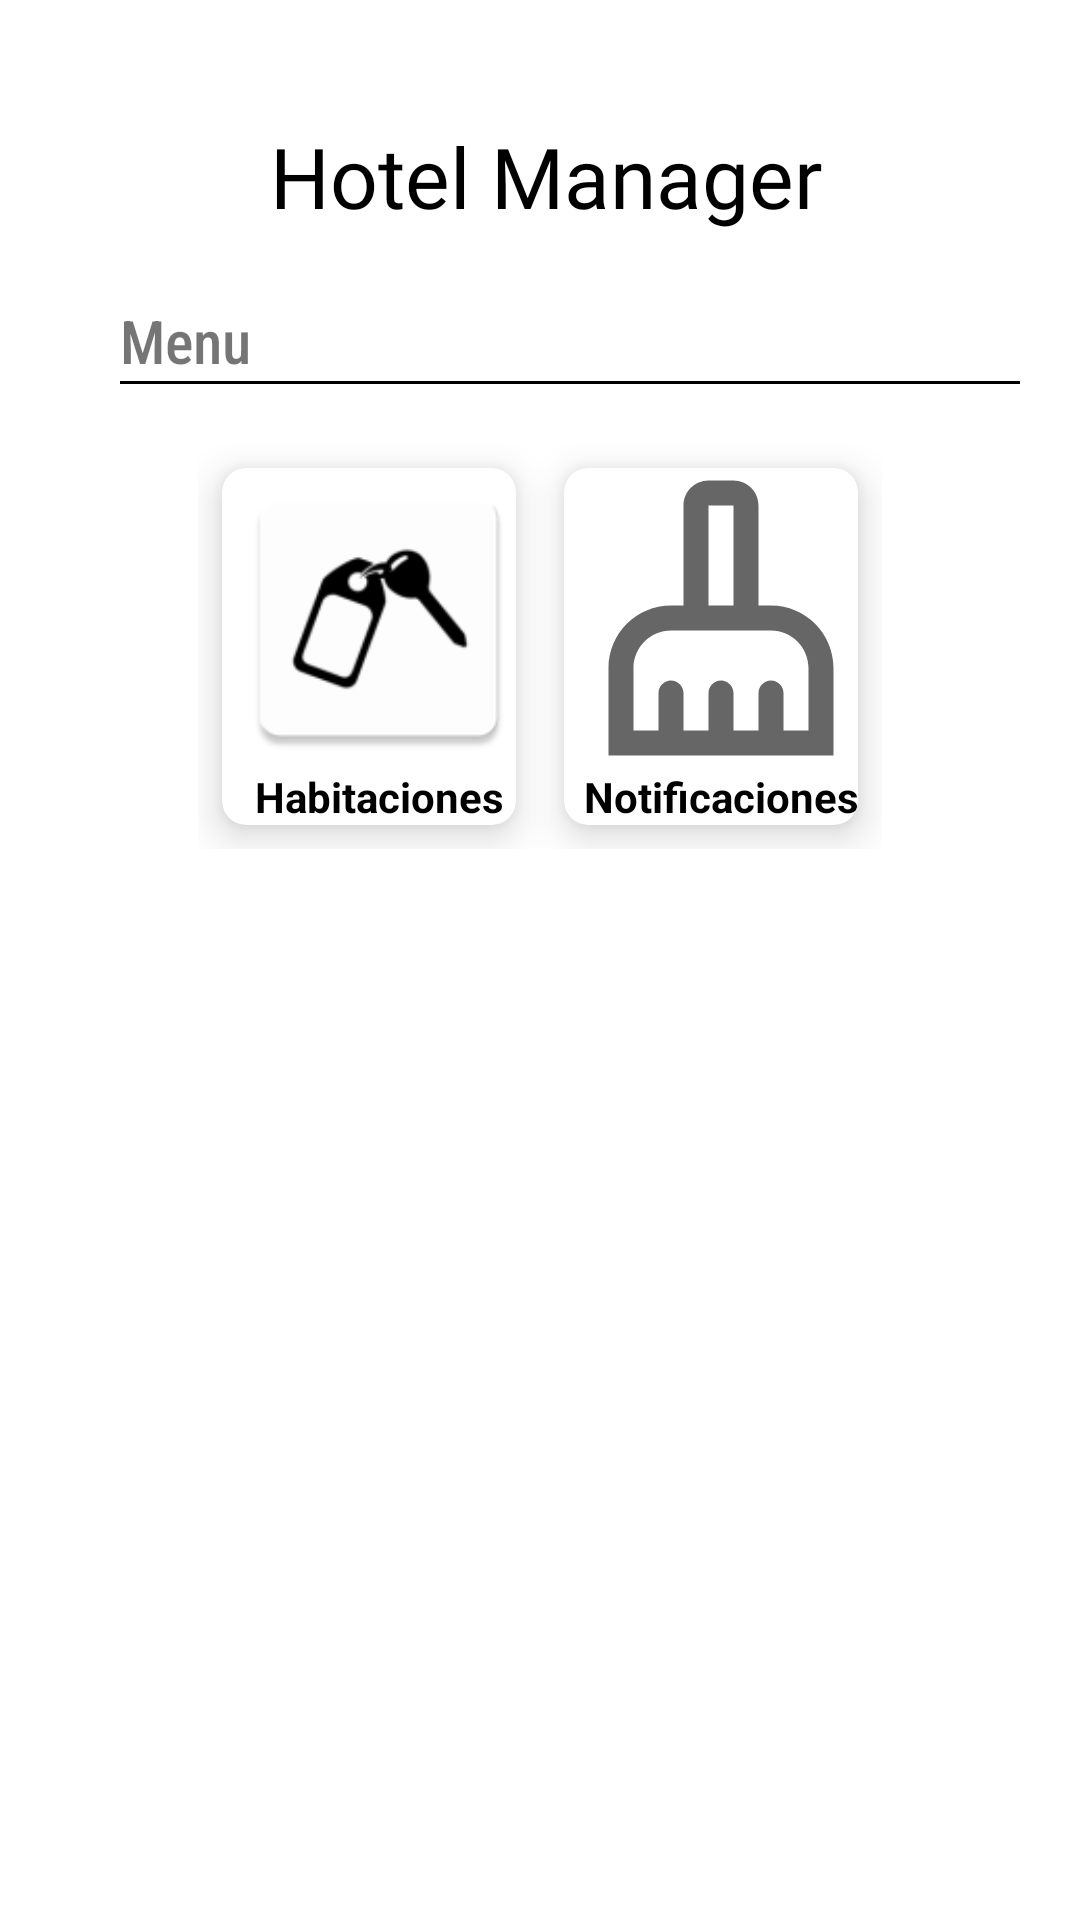

Locate icon controls on the screen. Image size 1080 × 1920, boxes as (x1, y1, x2, y2).
cleaning services: (608, 480, 834, 756)
